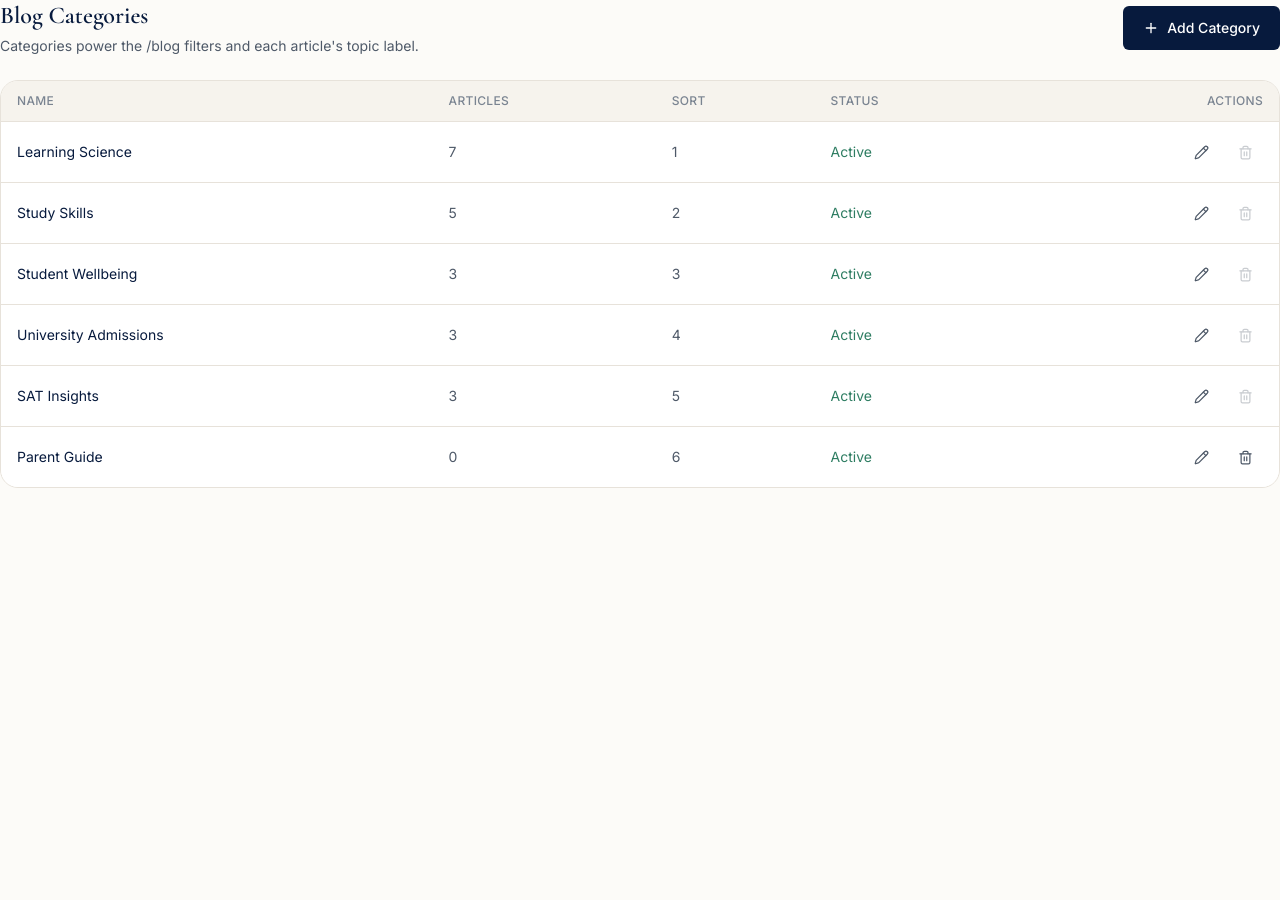
Test: BlogCategoriesAdmin › allows deleting a category with no articles
This screenshot has width=1280, height=900.
Click the button named "Delete Parent Guide".
click(1245, 457)  # box [1227, 439, 1263, 475]
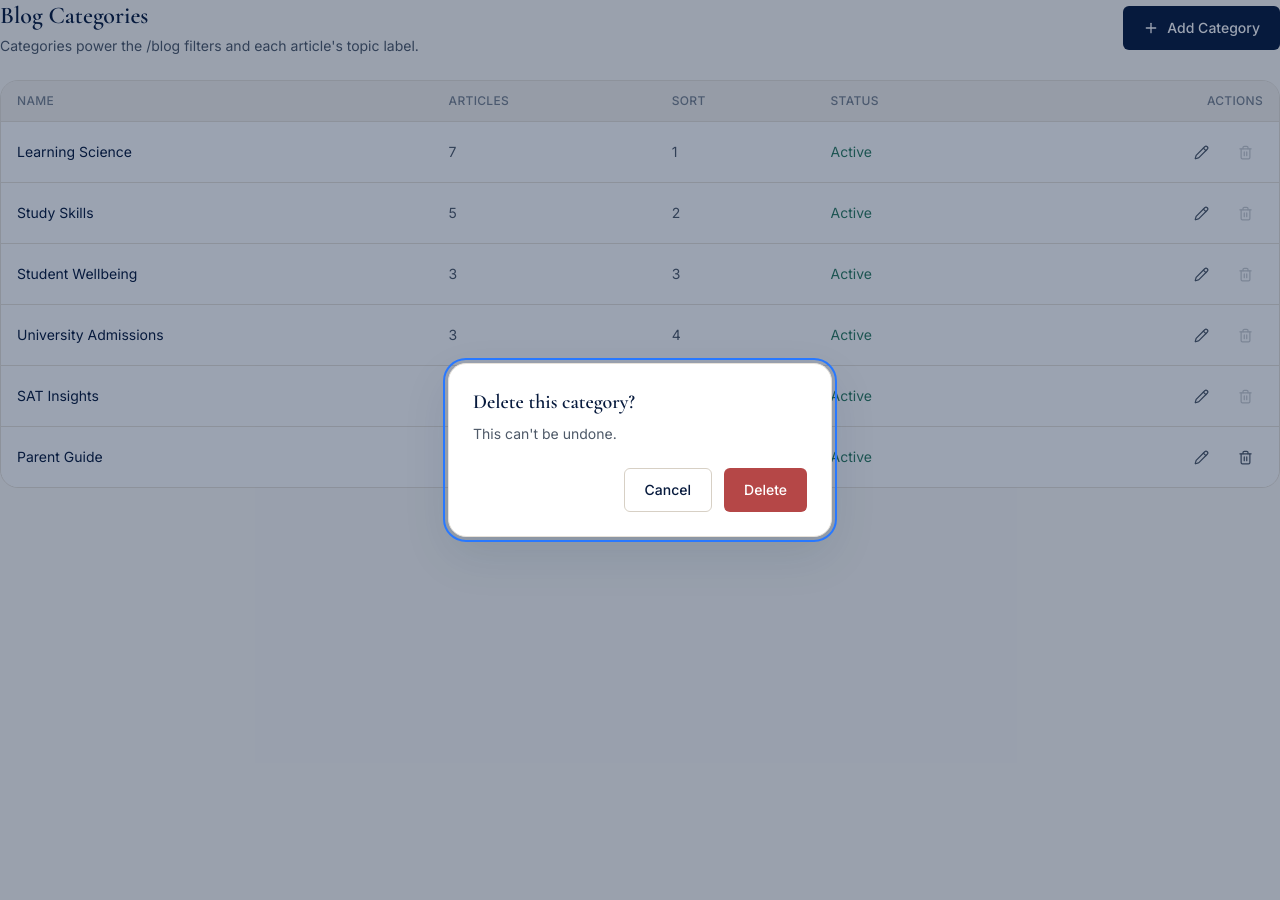
Click the button "Delete".
click(766, 490)  # box [724, 468, 807, 512]
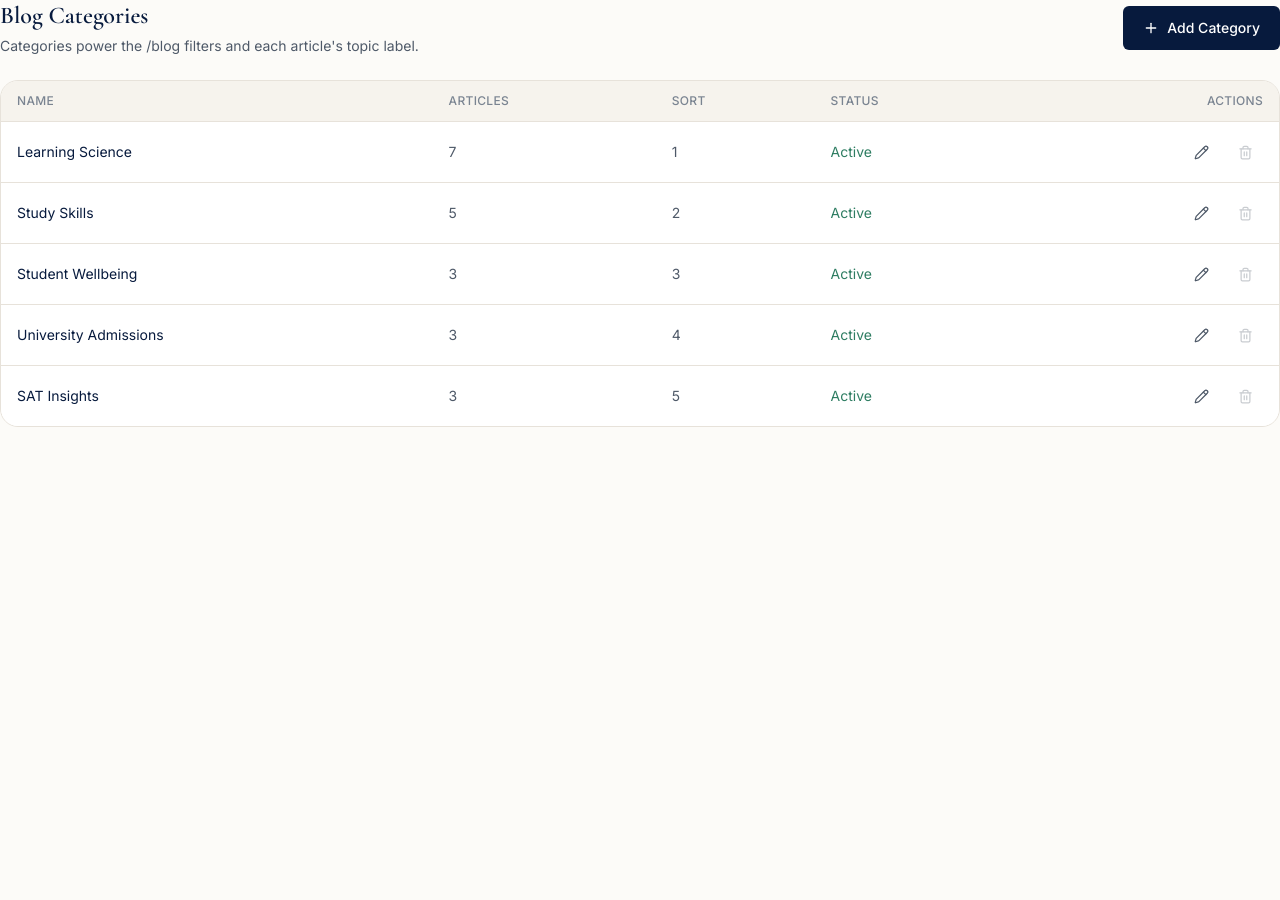
Check: the text "Parent Guide" is gone
